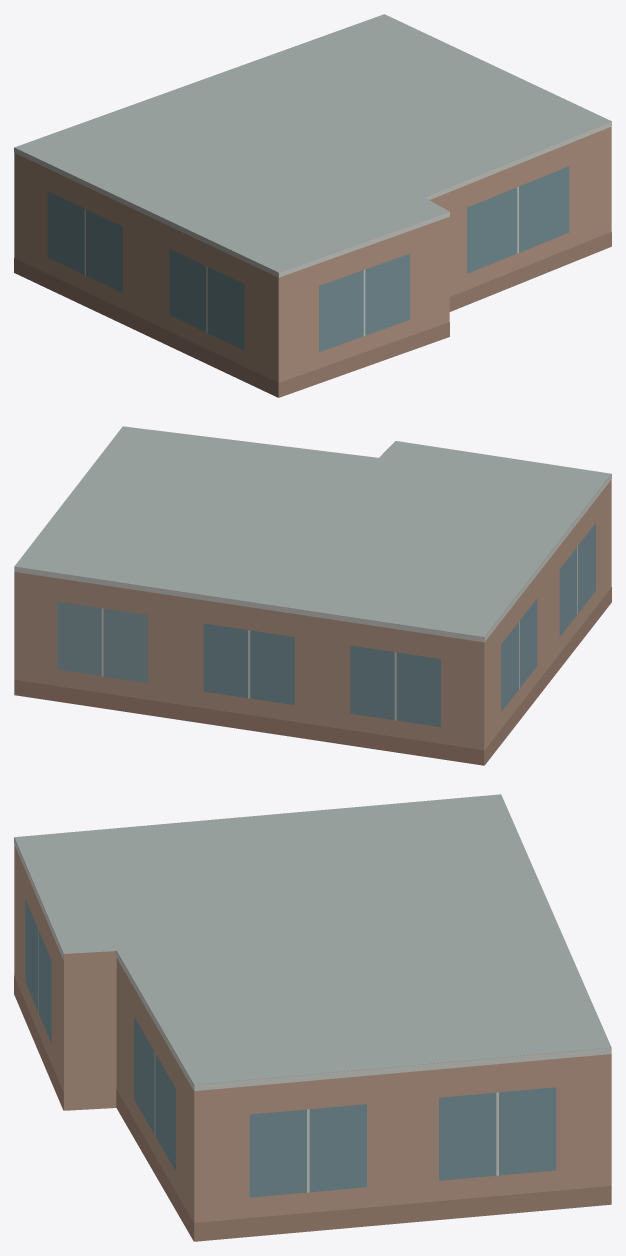
The model's file is survey-upis-32606820.glb.
3 views of the same model, one above another, from view 1: azimuth 30°, elevation 25°; view 2: azimuth 150°, elevation 25°; view 3: azimuth 270°, elevation 25° (orthographic). The views are drawn at different scales.
Parts seen in each view (by area): view 1: survey-upis-32606820.tmp; view 2: survey-upis-32606820.tmp; view 3: survey-upis-32606820.tmp.
Boxes of the visible parts, x1=… form: survey-upis-32606820.tmp: x1=14, y1=14, x2=611, y2=397; survey-upis-32606820.tmp: x1=14, y1=426, x2=611, y2=765; survey-upis-32606820.tmp: x1=14, y1=794, x2=611, y2=1241.
Bounding box in the file's own units: 12.12 × 3.05 × 10.53.
